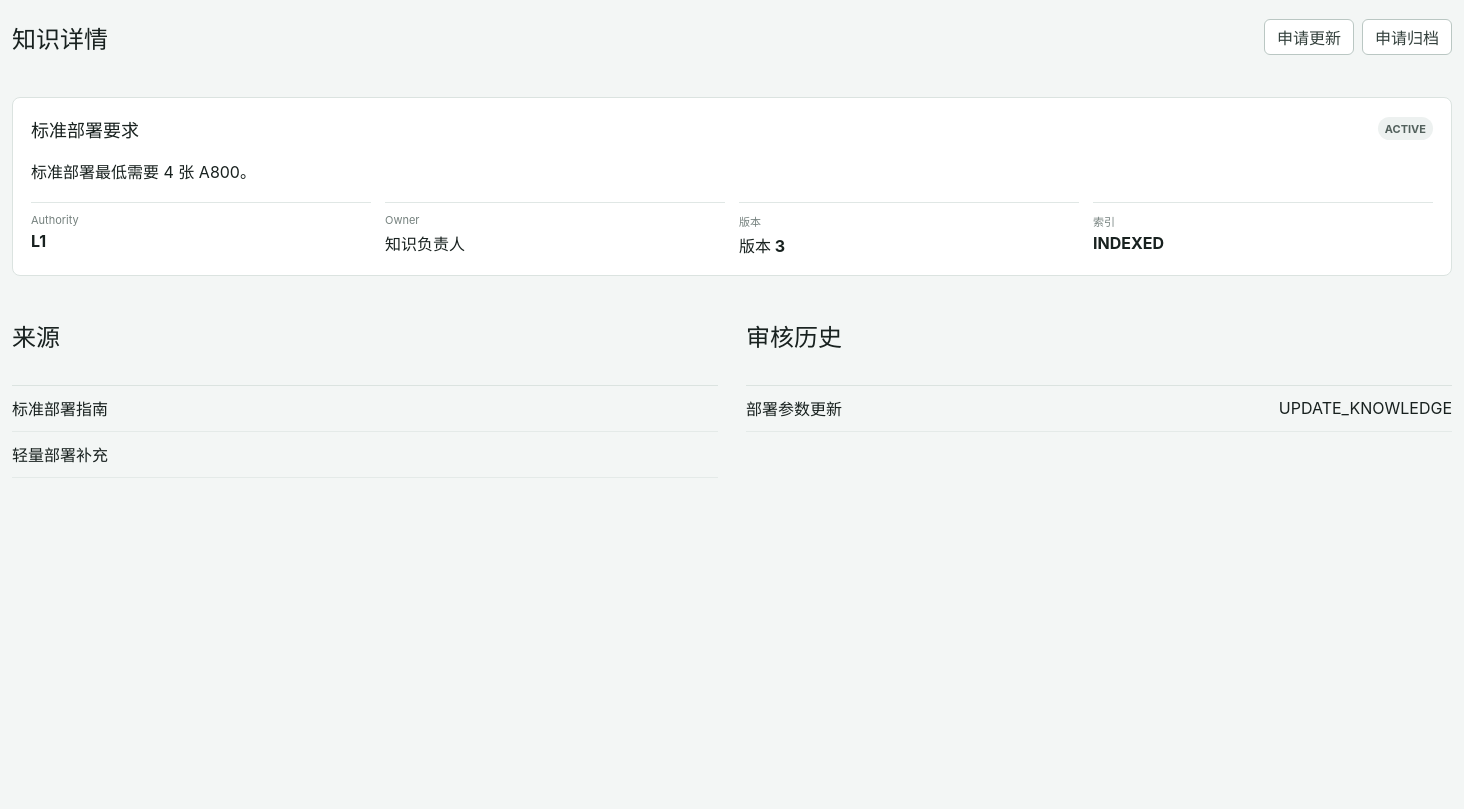
KnowledgeDetailPage › preserves the update form when review creation fails
The width and height of the screenshot is (1464, 809).
Click the button "申请更新". click: (1309, 37)
box: 1264,19 -> 1354,55
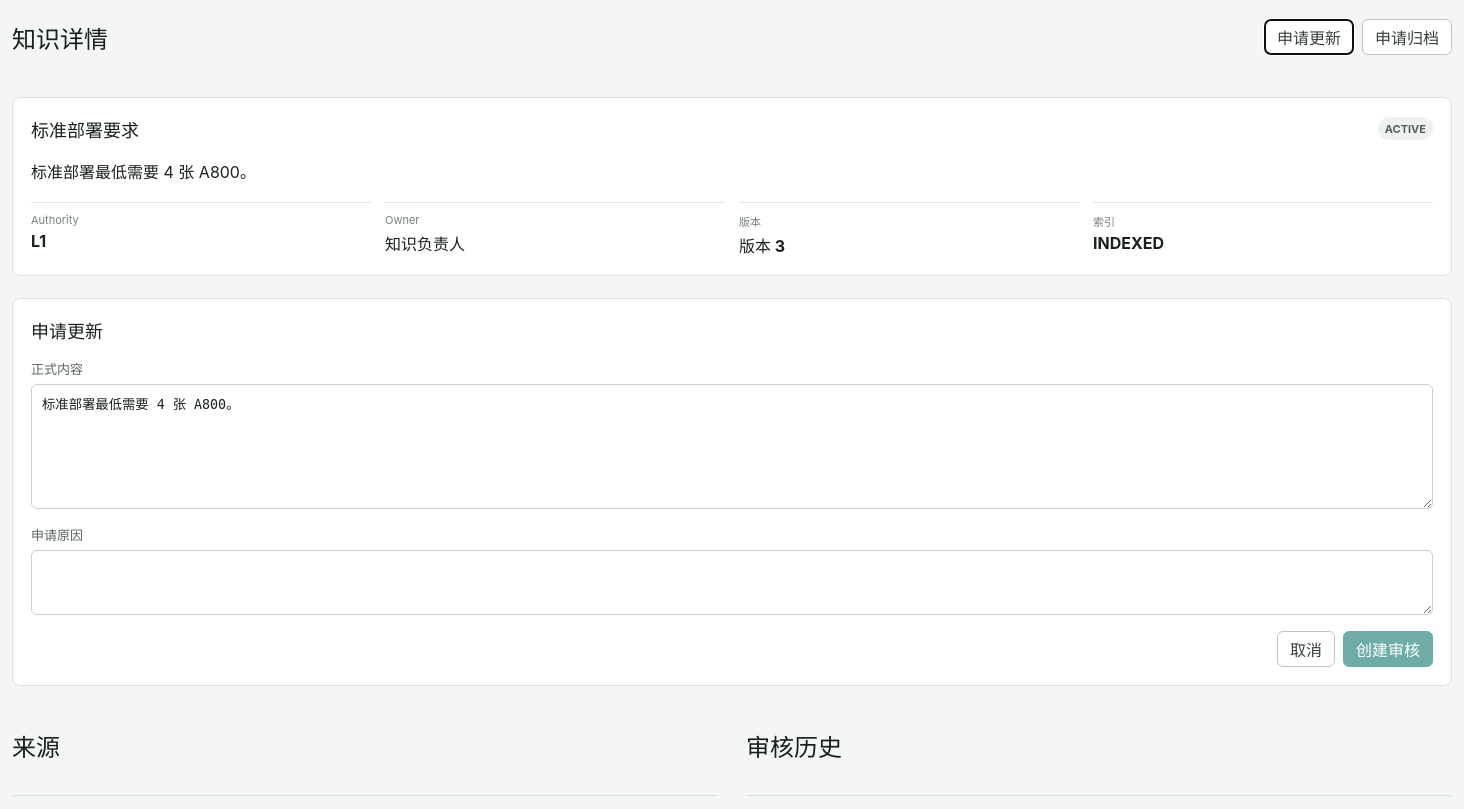
Replace the text in the text box labelled "正式内容" with "仍需保留的编辑内容". click: (732, 446)
box: 31,384 -> 1433,509
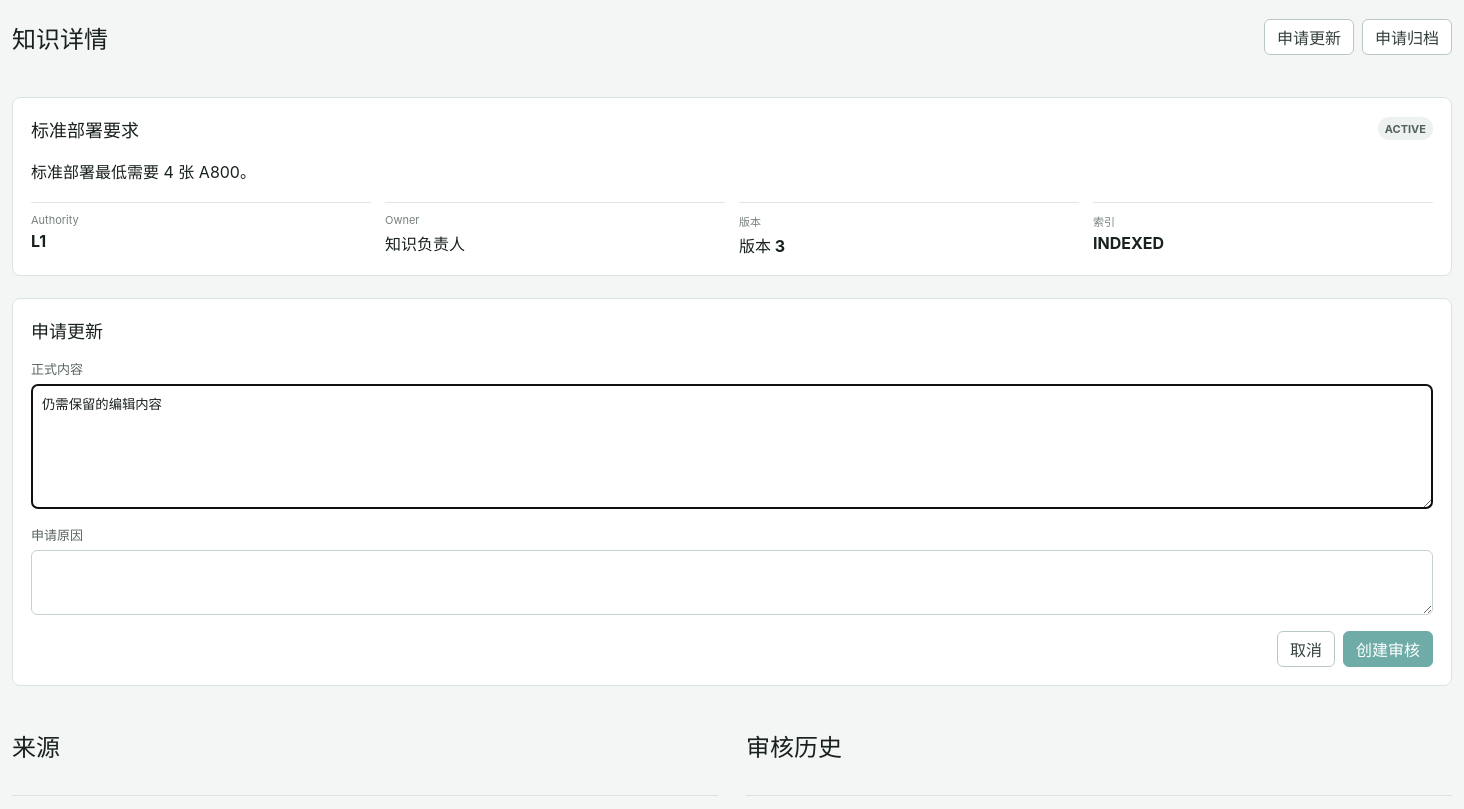
Type "仍需保留的原因" into the text box labelled "申请原因". click: (732, 582)
box: 31,550 -> 1433,615
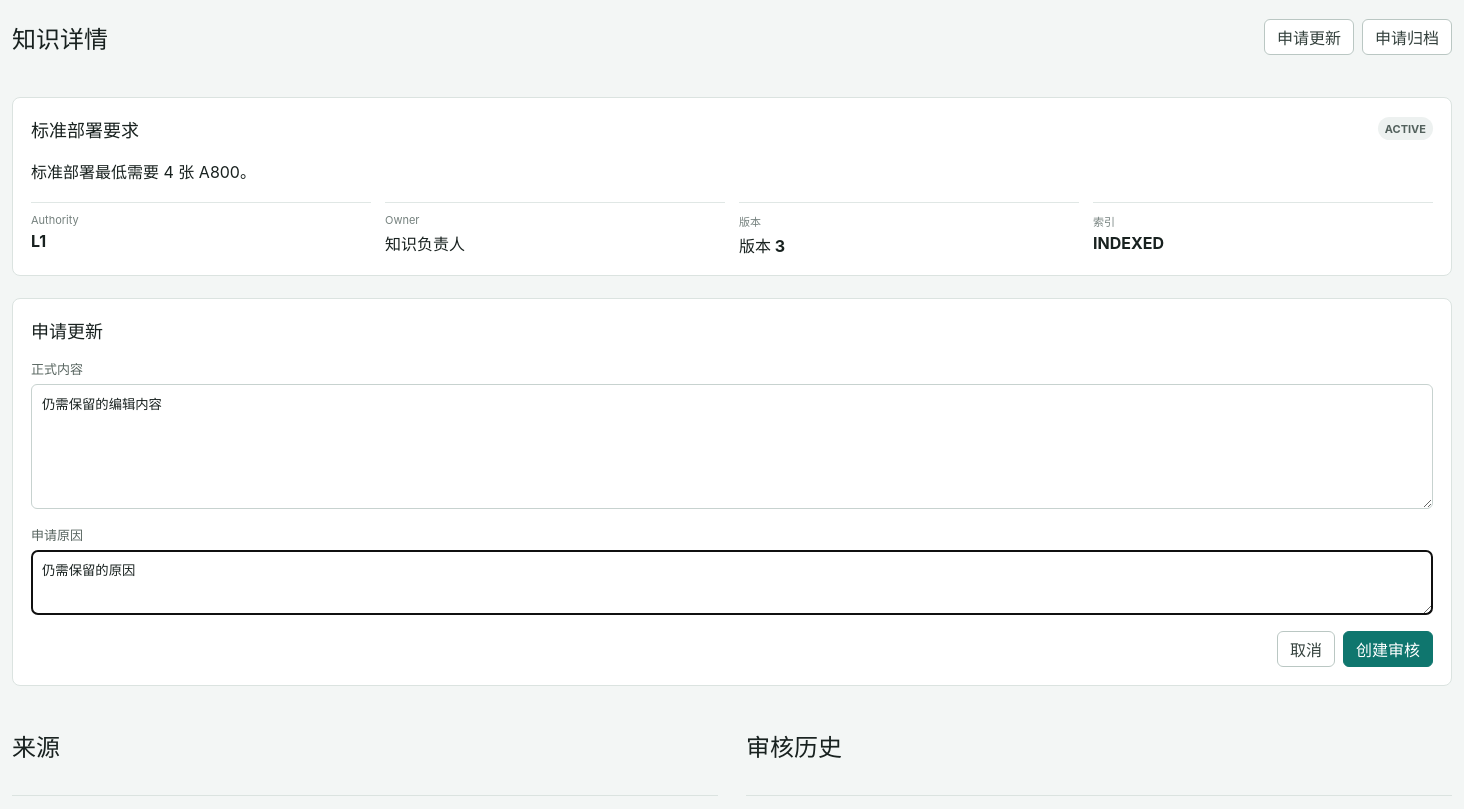
Click the button "创建审核". click: (1388, 649)
box: 1343,631 -> 1433,667
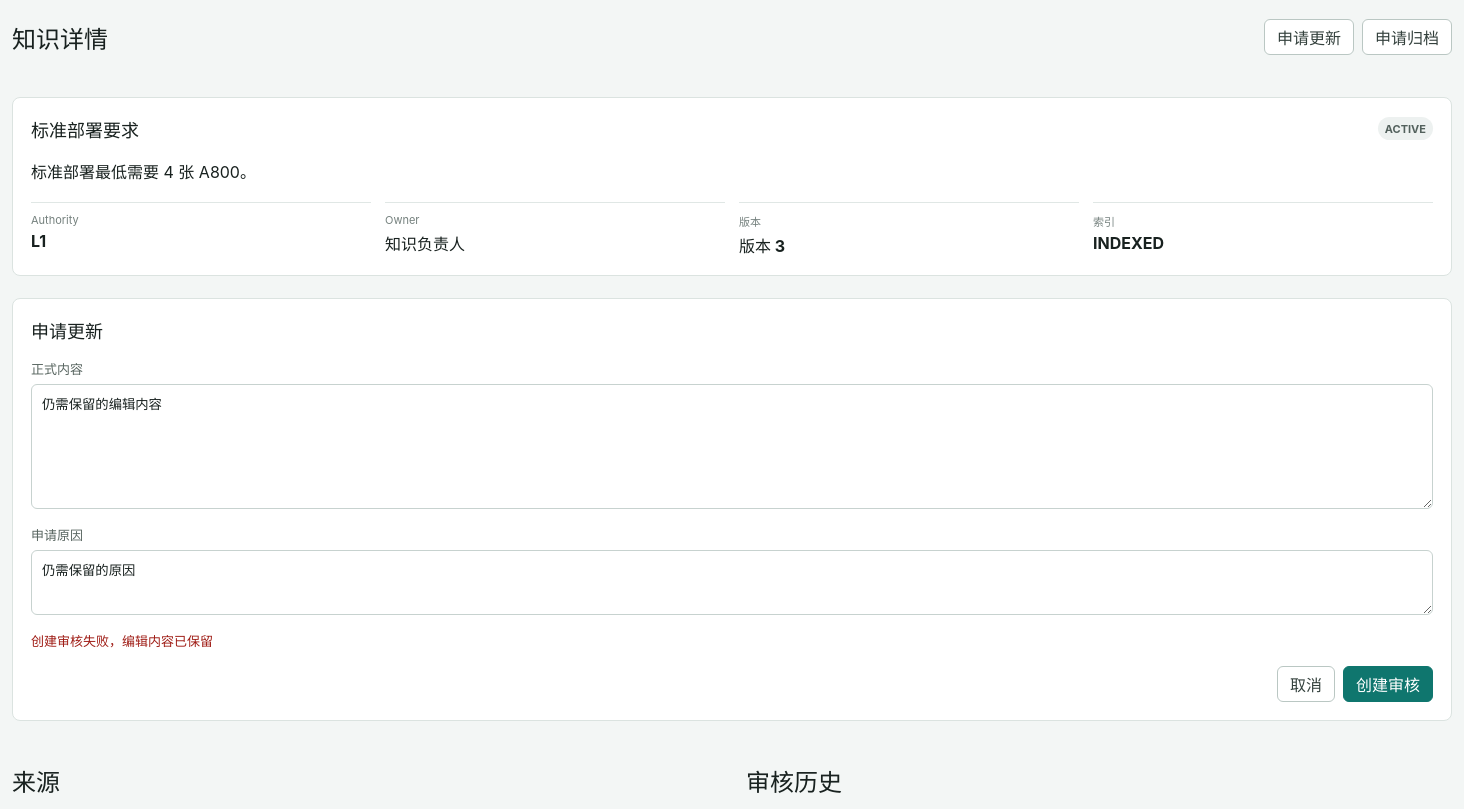
Now the text "创建审核失败，编辑内容已保留" is shown, box 31,633 -> 213,649
